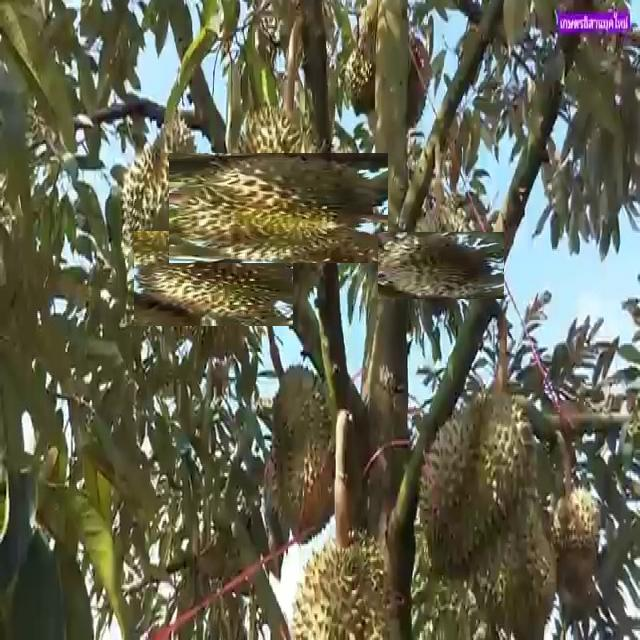durian: (196, 125, 361, 290), (414, 390, 536, 586), (262, 361, 349, 550), (150, 215, 278, 342), (119, 109, 204, 280), (284, 521, 392, 638), (393, 216, 489, 314), (550, 475, 604, 616)
